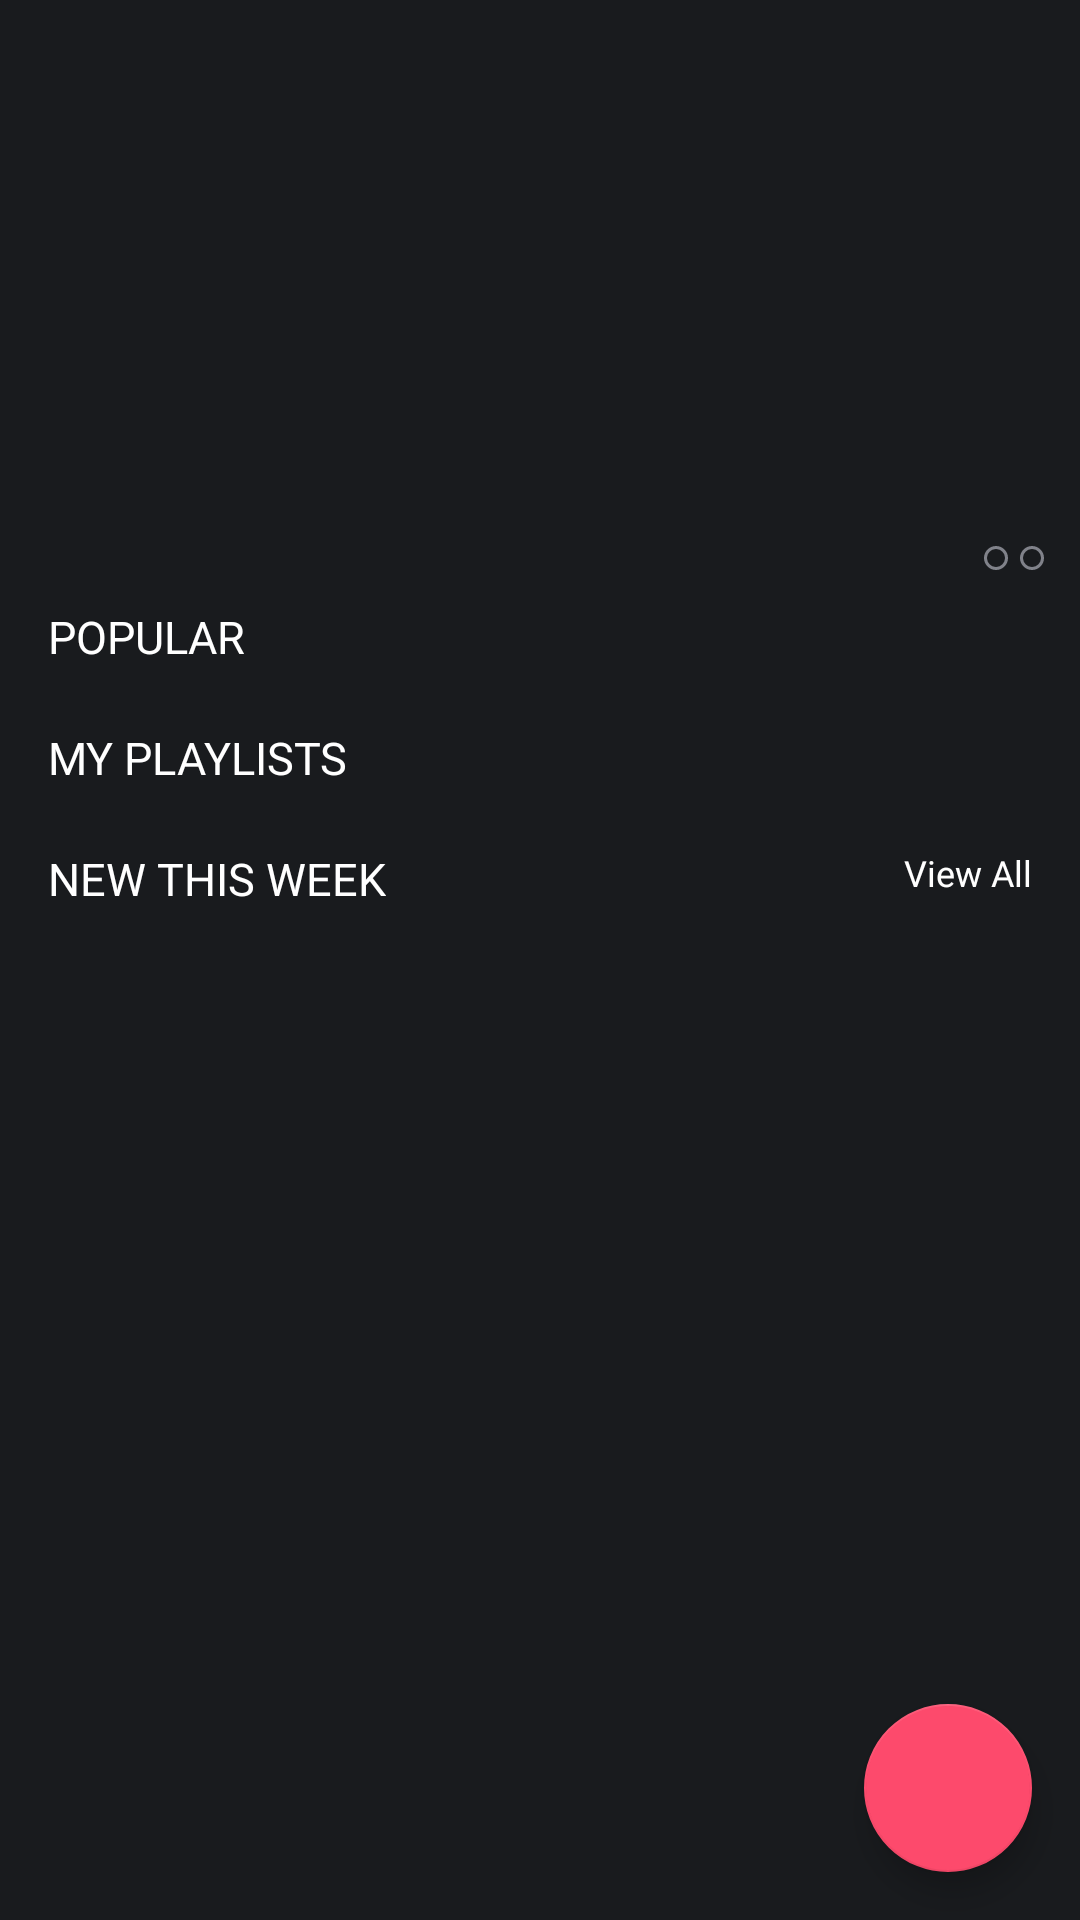

Named icons in this screenshot (1080px x 1920px) and their centers, (x=x, y=y):
indicator: (x=996, y=558), (x=1032, y=558)
